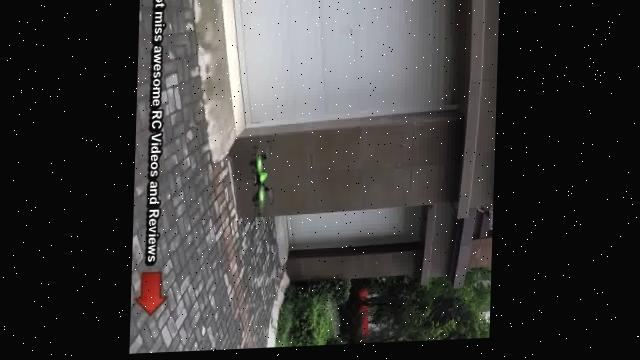drone: (241, 139, 280, 215)
